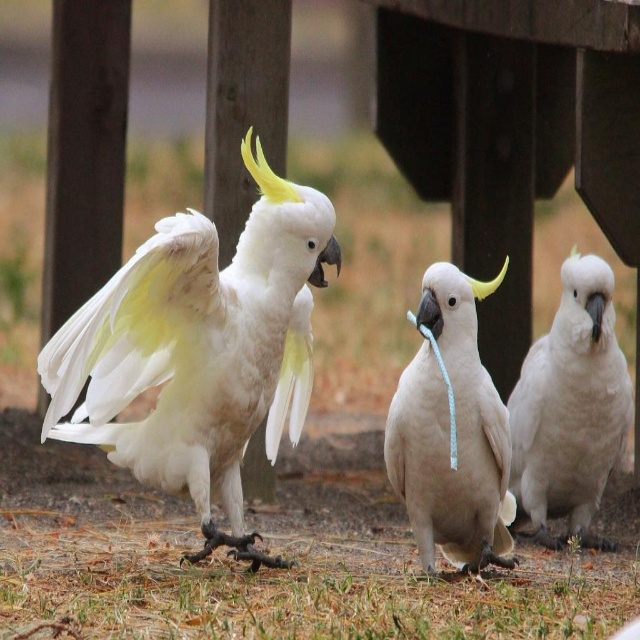Parrot: (37, 126, 343, 572), (384, 255, 520, 575), (507, 245, 636, 553)
